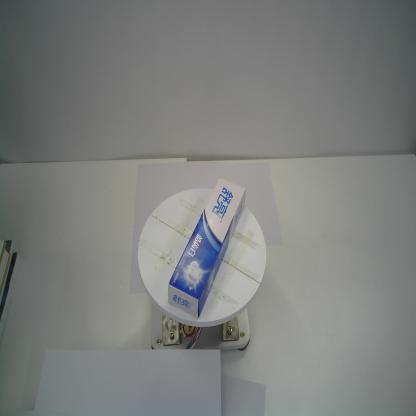Personal Hygiene: (167, 177, 246, 319)
